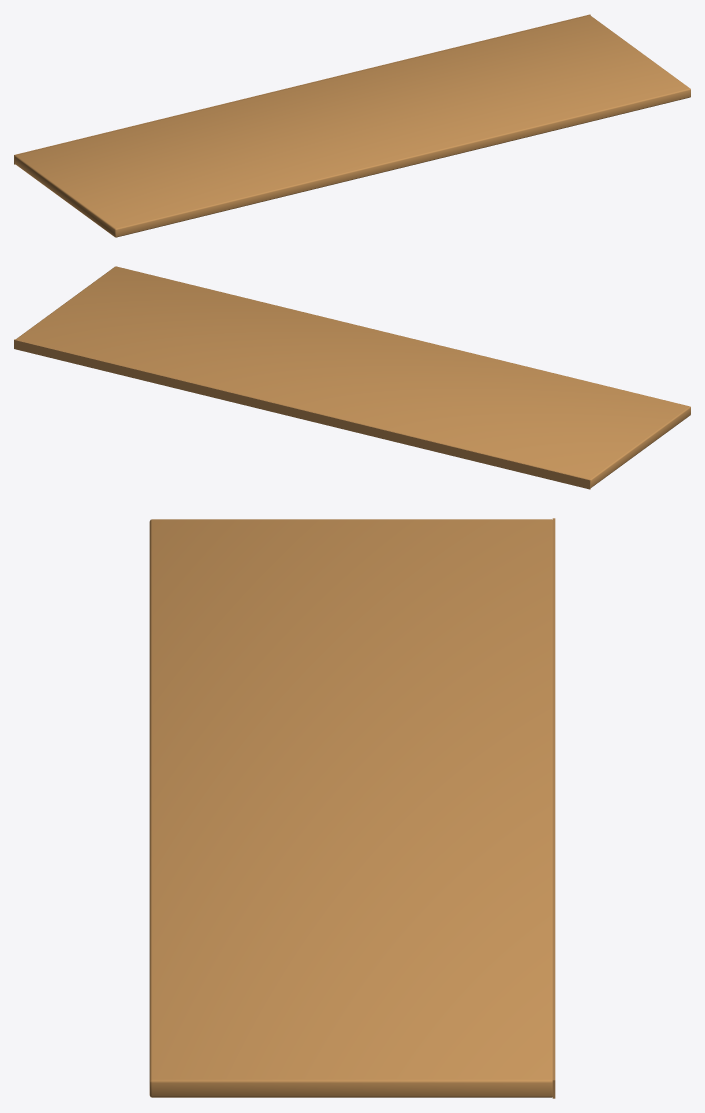
Rendered from shelf.fbx.
3 views of the same model, one above another, from view 1: azimuth 30°, elevation 25°; view 2: azimuth 150°, elevation 25°; view 3: azimuth 270°, elevation 25° (orthographic). The views are drawn at different scales.
Parts seen in each view (by area): view 1: shelf; view 2: shelf; view 3: shelf.
Boxes of the visible parts, bbox=[...] form: shelf: bbox=[14, 14, 690, 237]; shelf: bbox=[14, 266, 690, 489]; shelf: bbox=[149, 518, 555, 1098].
Bounding box in the file's own units: 1 × 0.0152 × 0.305.
